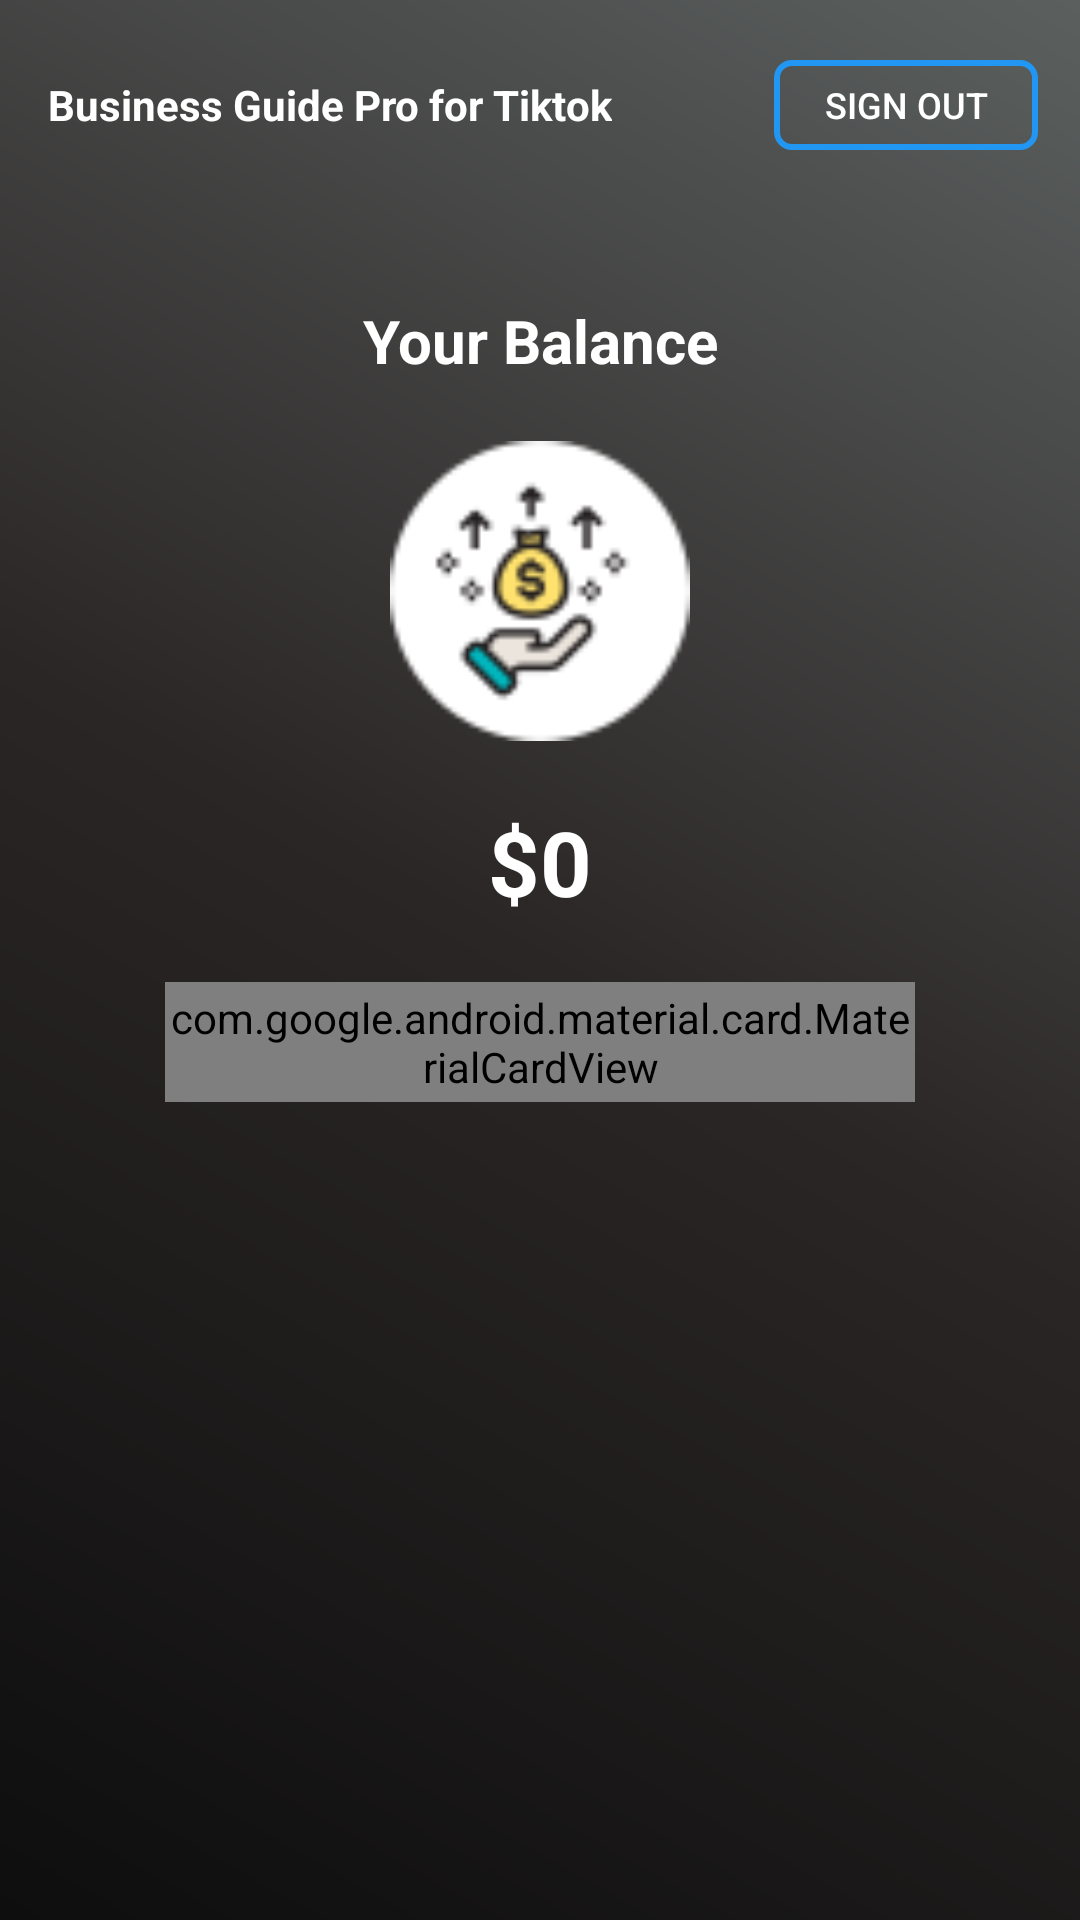

Locate icon controls on the screen. Image size 1080 x 1920, boxes as Rect(x1, y1, x2, y2).
money: Rect(390, 441, 690, 741)
